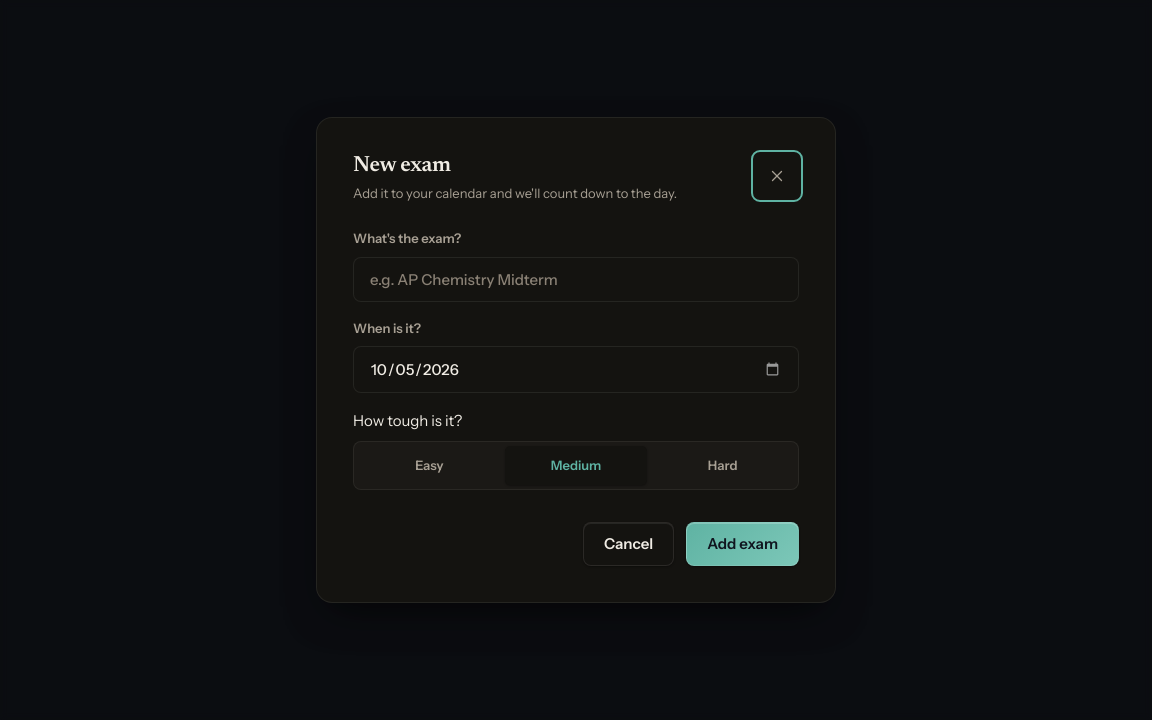
Test: ExamModal › reports a save failure and stays open
Type "Doomed" into the field labelled "What's the exam?" at (576, 279), box [353, 257, 799, 302]
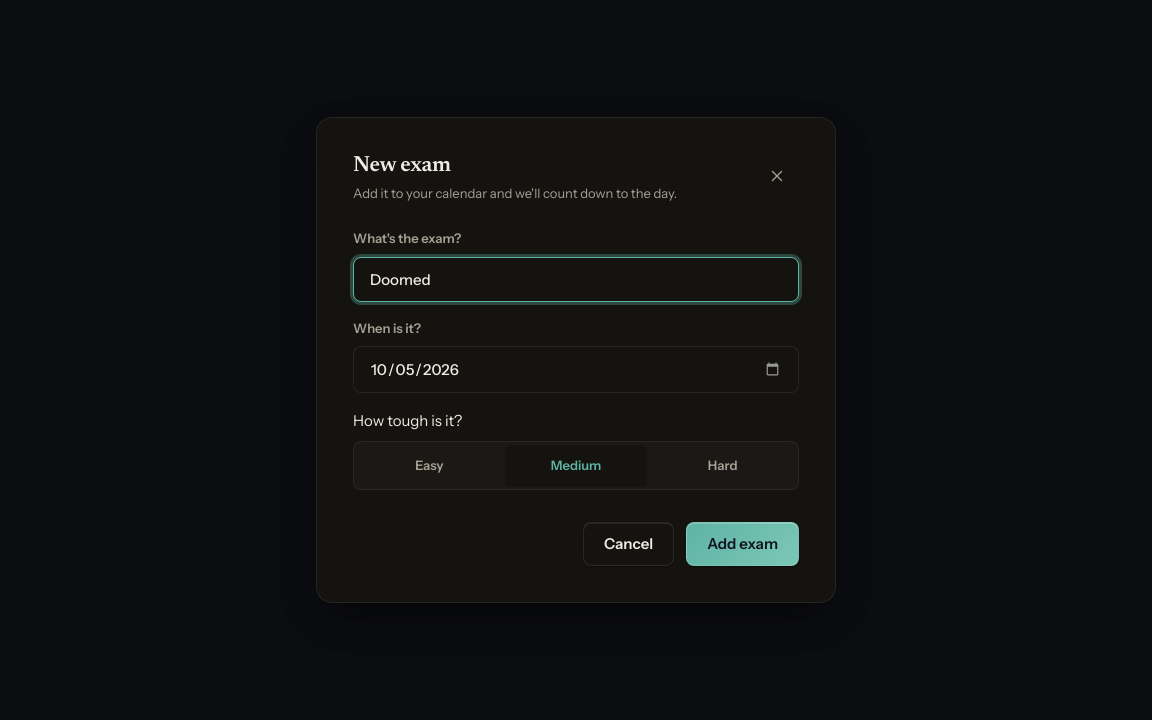
Click the button "Add exam" at (743, 544), box [686, 522, 799, 566]
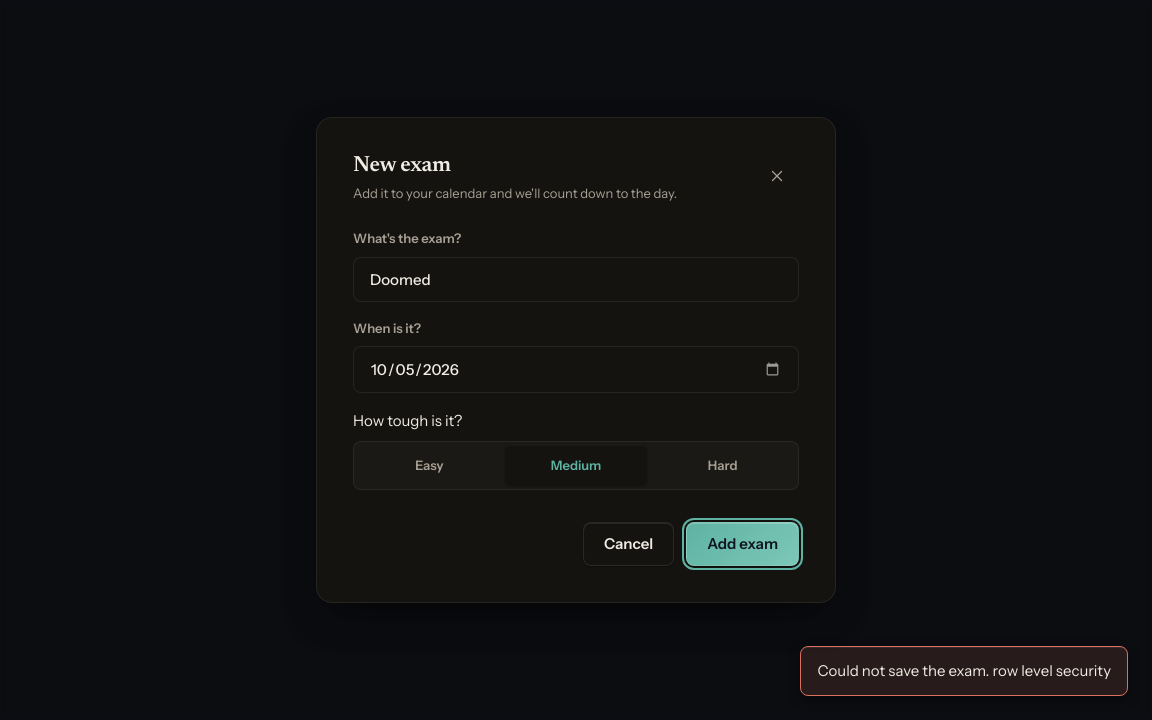
Now the text "Could not save the exam. row level security" is shown, box [818, 659, 1111, 683]
